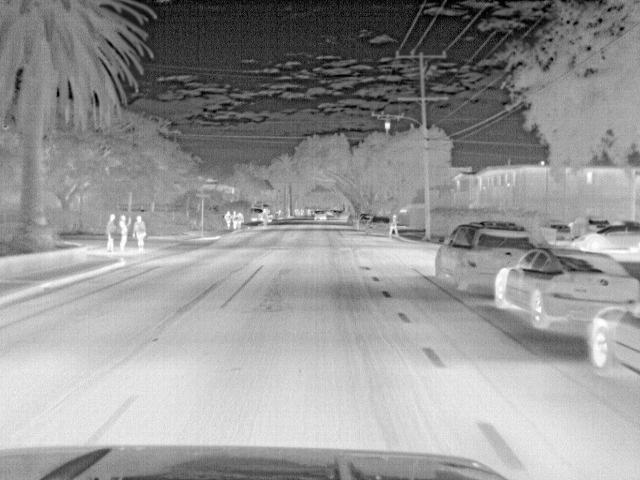car: (493, 246, 637, 334), (433, 220, 534, 290), (589, 298, 638, 381), (569, 219, 637, 260), (571, 216, 615, 235), (365, 214, 395, 238), (546, 222, 573, 242), (356, 214, 373, 230), (312, 208, 330, 222)
person: (132, 212, 146, 253), (117, 214, 130, 254), (105, 215, 119, 251), (258, 206, 271, 228), (220, 208, 232, 229)
